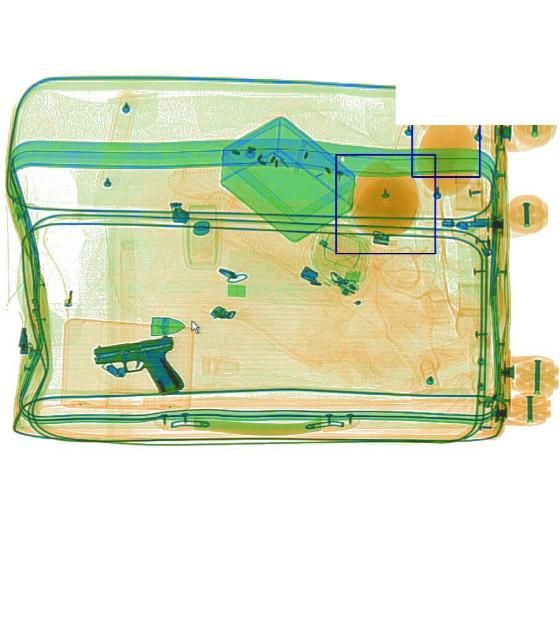Gun: (89, 336, 181, 404)
